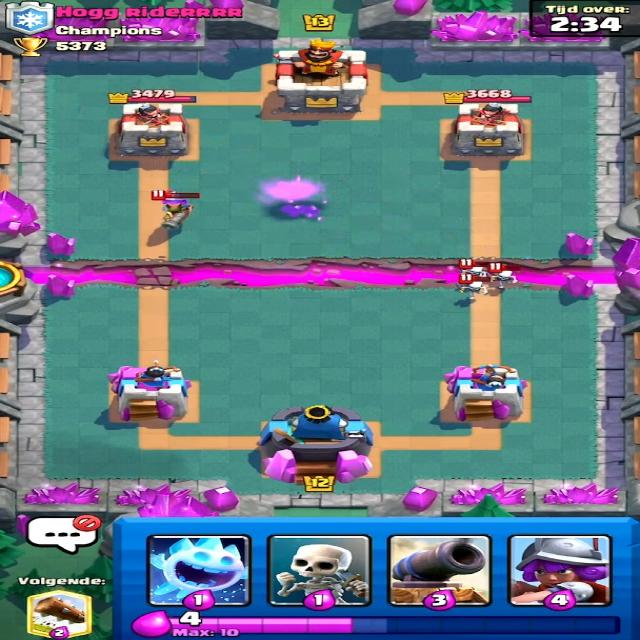Cannon_Card: (388, 534, 501, 607)
Enemy_Musketeer_Troop: (149, 187, 211, 237)
Enemy_Skeleton_Troop: (486, 270, 521, 292), (461, 279, 484, 300), (465, 264, 494, 279)
Ice_Spirit_Card: (151, 538, 253, 604)
Musketeer_Card: (507, 534, 613, 606)
Skeleton_Card: (264, 535, 370, 608)
